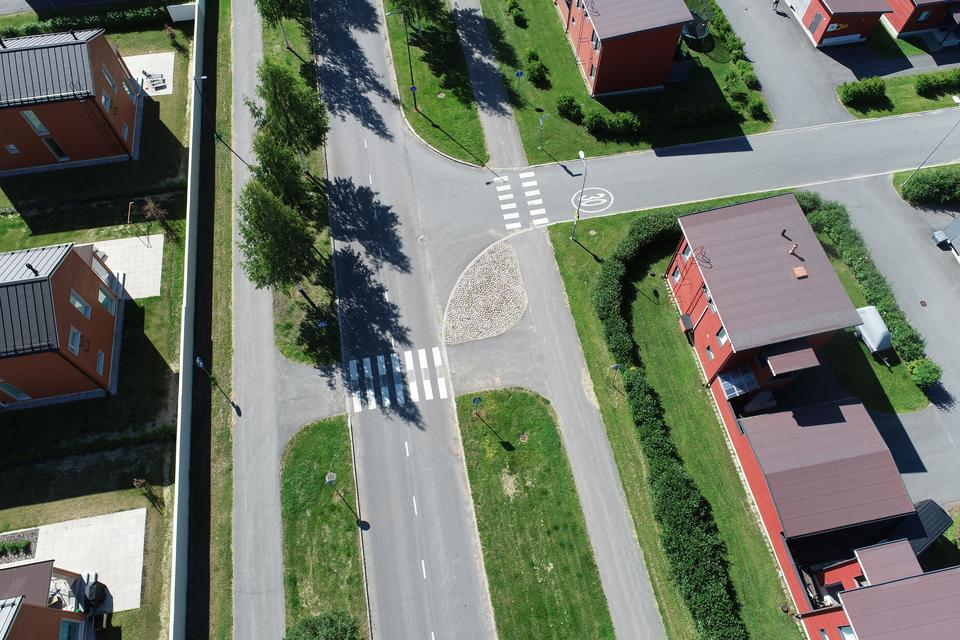intersection: (215, 329, 625, 459), (297, 123, 588, 251)
